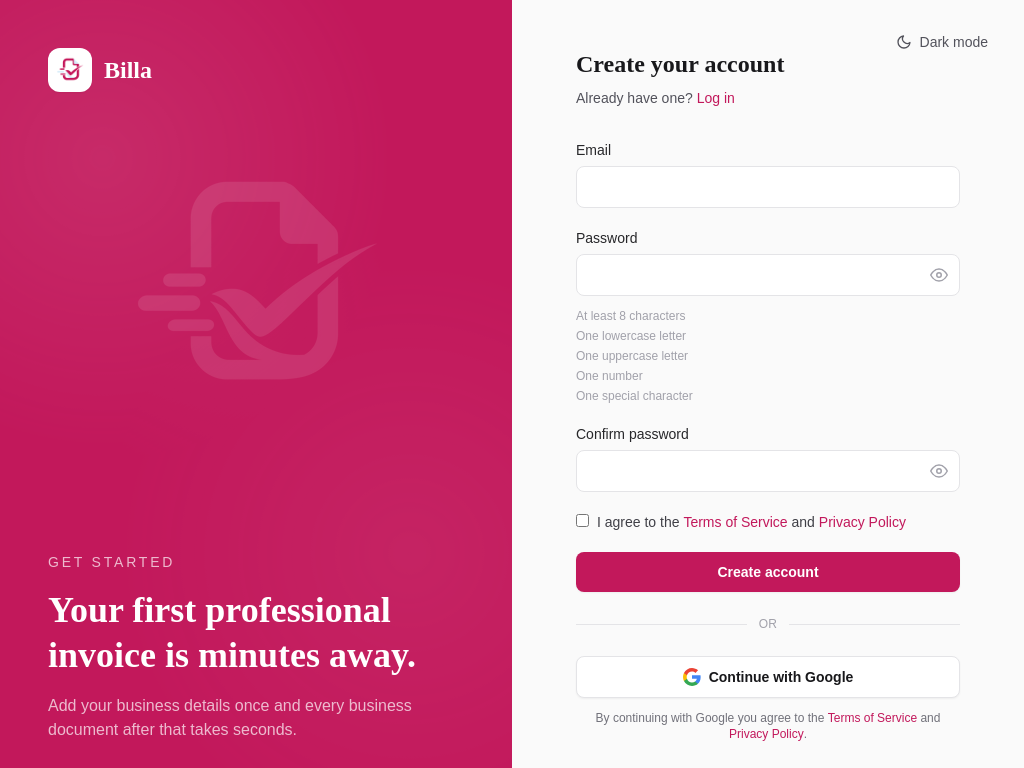
Test: Register › will not create an account until the terms are agreed to
Type "owner@example.com" into the field labelled "Email" at {"x": 768, "y": 187}, box [576, 166, 960, 208]
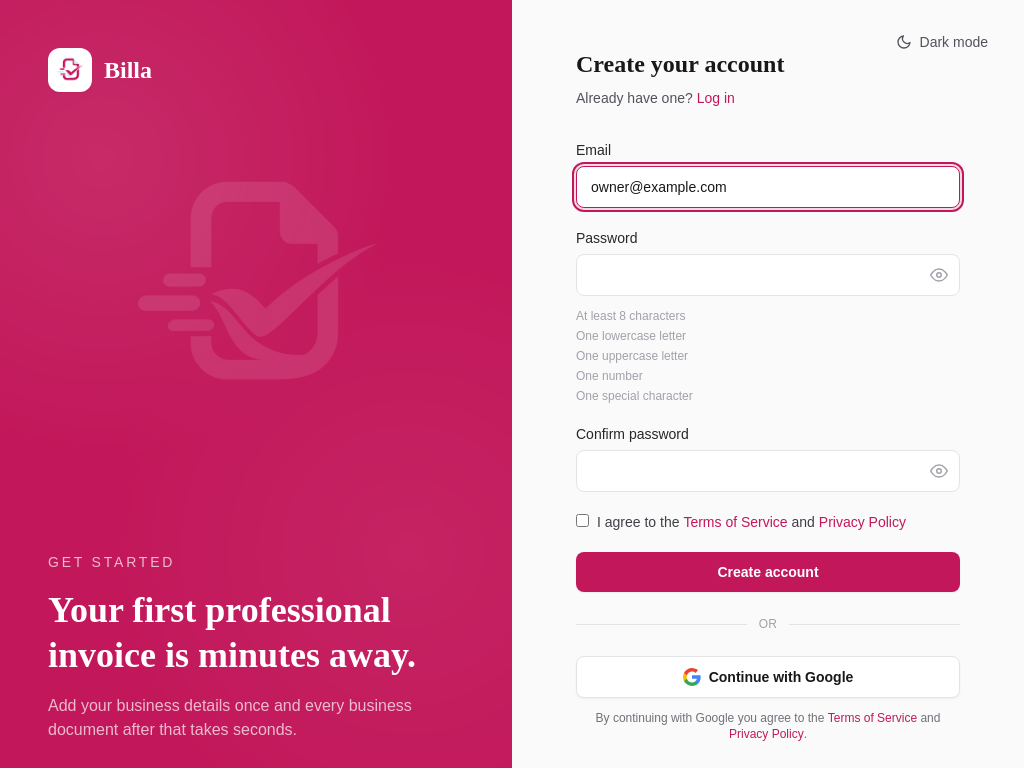
Type "Supersecret1!" into the password field labelled "Password" at {"x": 768, "y": 275}, box [576, 254, 960, 296]
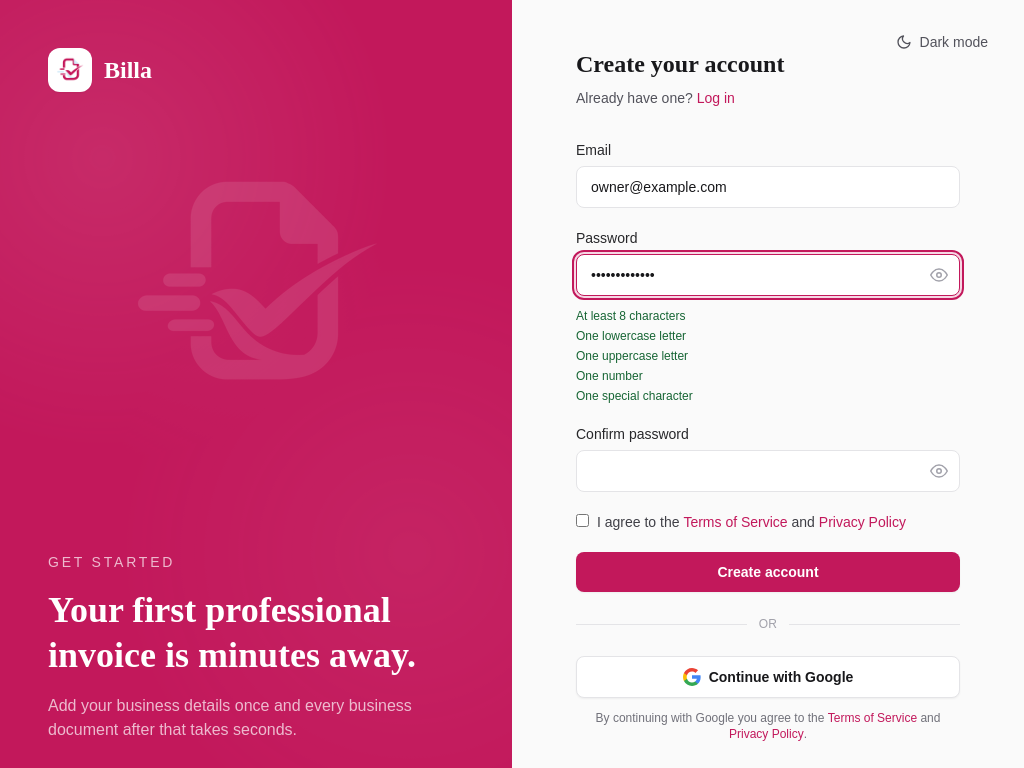
Type "Supersecret1!" into the password field labelled "Confirm password" at {"x": 768, "y": 471}, box [576, 450, 960, 492]
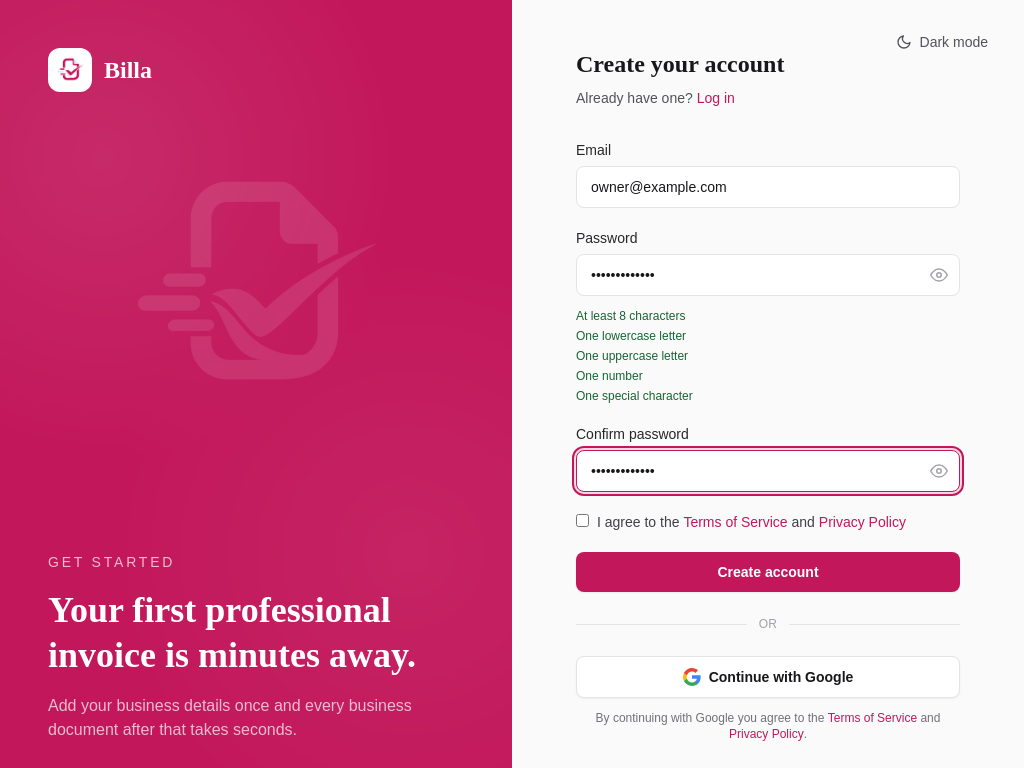
Click the button "Create account" at {"x": 768, "y": 572}, box [576, 552, 960, 592]
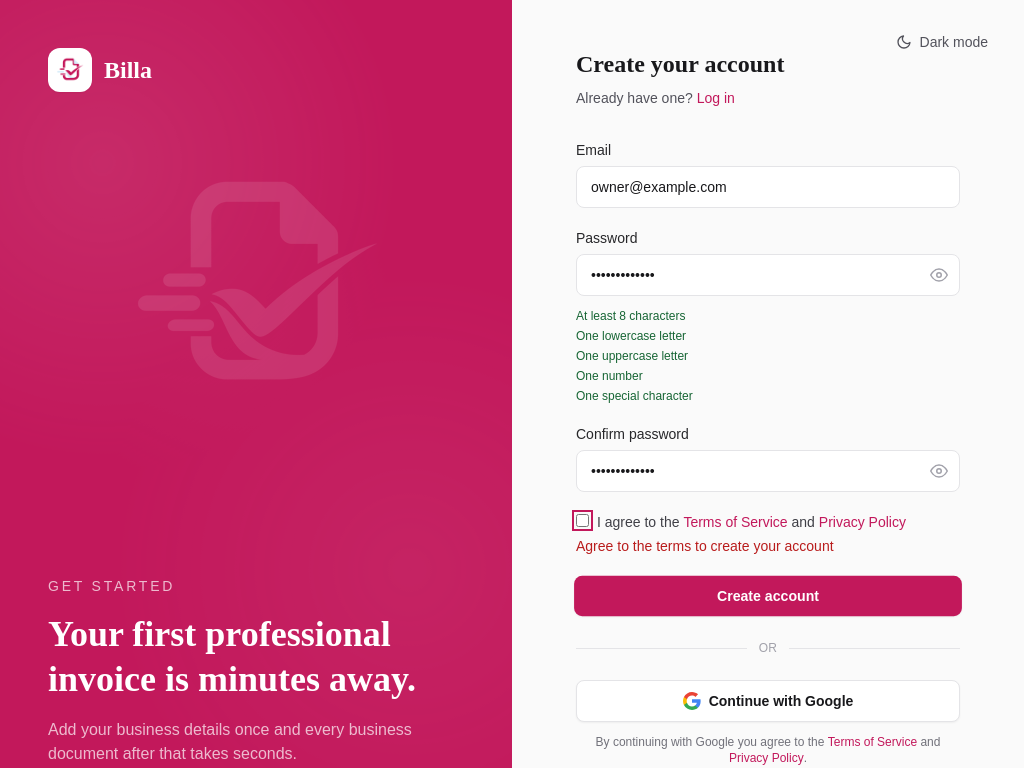
Result: the text "Agree to the terms to create your account" is shown at [576, 538, 834, 554]
